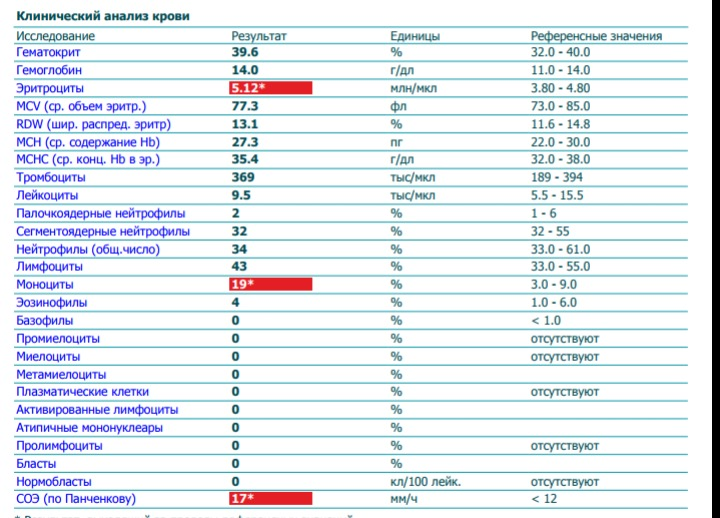column: (15, 26, 191, 508), (529, 26, 663, 508), (389, 26, 461, 508), (230, 26, 288, 508)
